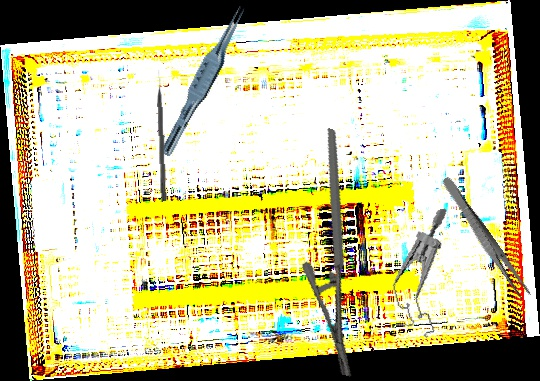Dressing Forceps: (437, 175, 533, 302)
Needle Holder: (263, 127, 416, 378)
Pusher: (156, 69, 168, 202)
Speculum: (375, 207, 476, 344)
Tissue Forceps: (159, 0, 250, 162)
